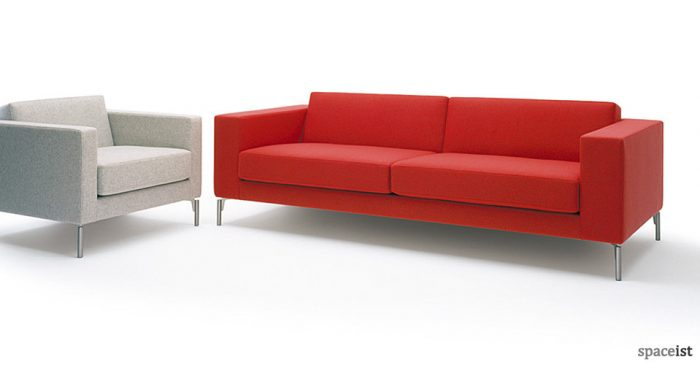chairs: (213, 83, 668, 287), (1, 93, 202, 263)
